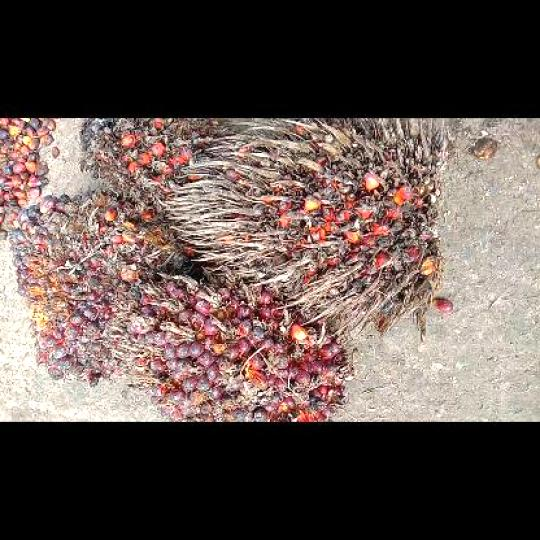masak: (109, 262, 353, 421), (9, 188, 193, 386)
terlalu masak: (164, 117, 446, 337), (79, 118, 222, 213)
